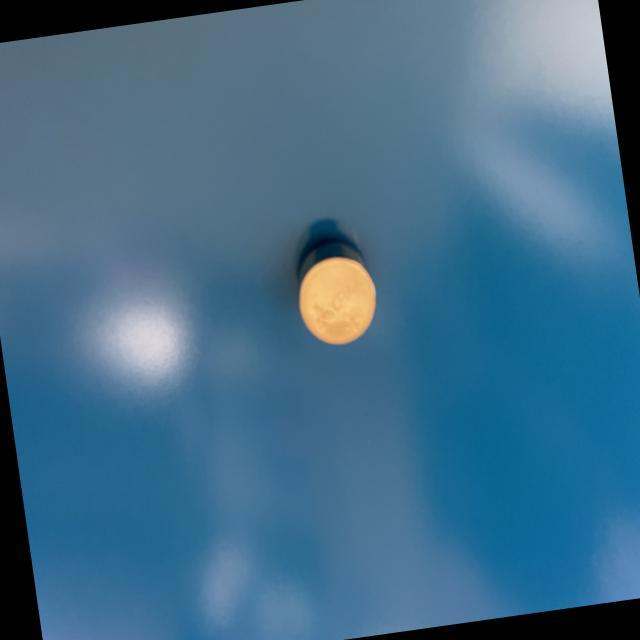COIN: (288, 226, 383, 352)
